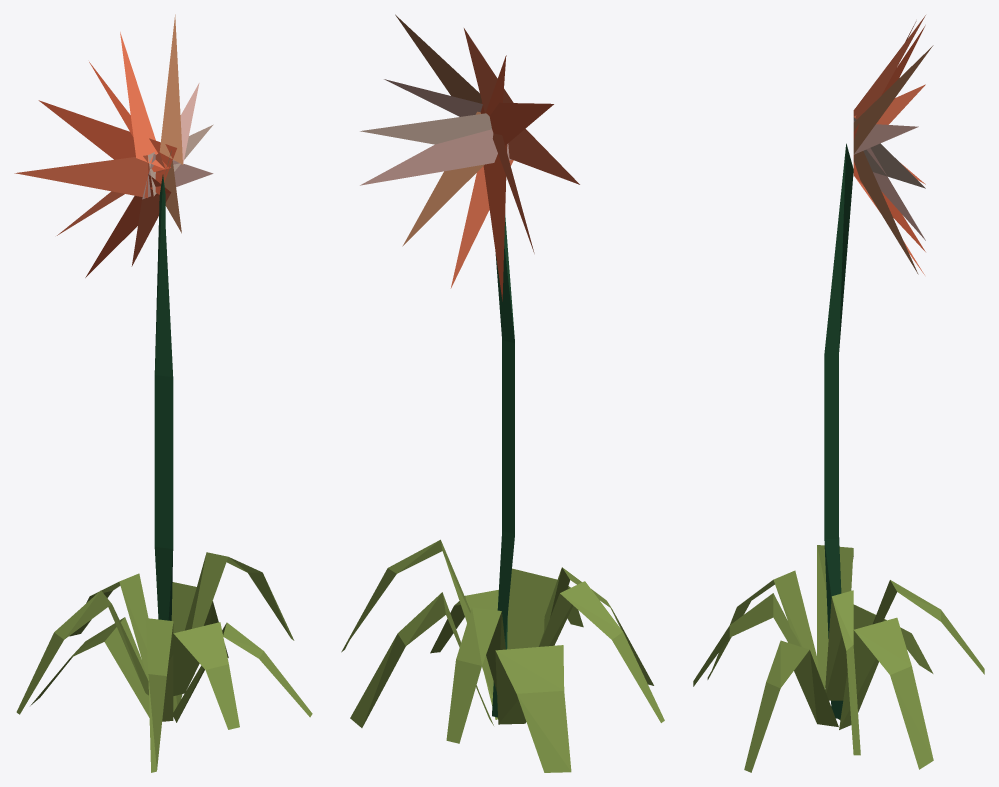
File: obj_jungle_flower_0.obj
3 views of the same model, side by side, from view 1: azimuth 30°, elevation 25°; view 2: azimuth 150°, elevation 25°; view 3: azimuth 270°, elevation 25° (orthographic). The views are drawn at different scales.
Bounding box in the file's own units: 0.375 × 0.8359 × 0.3125.
